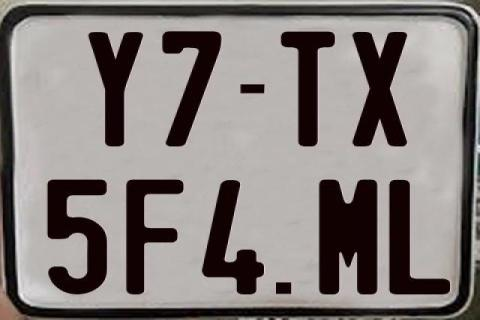0: (47, 179, 109, 297), (200, 180, 262, 297), (159, 30, 219, 150)
F: (124, 178, 186, 296)
L: (389, 180, 454, 296)
M: (319, 178, 377, 298)
T: (280, 29, 336, 147)
X: (352, 29, 413, 145)
Y: (86, 32, 146, 146)
